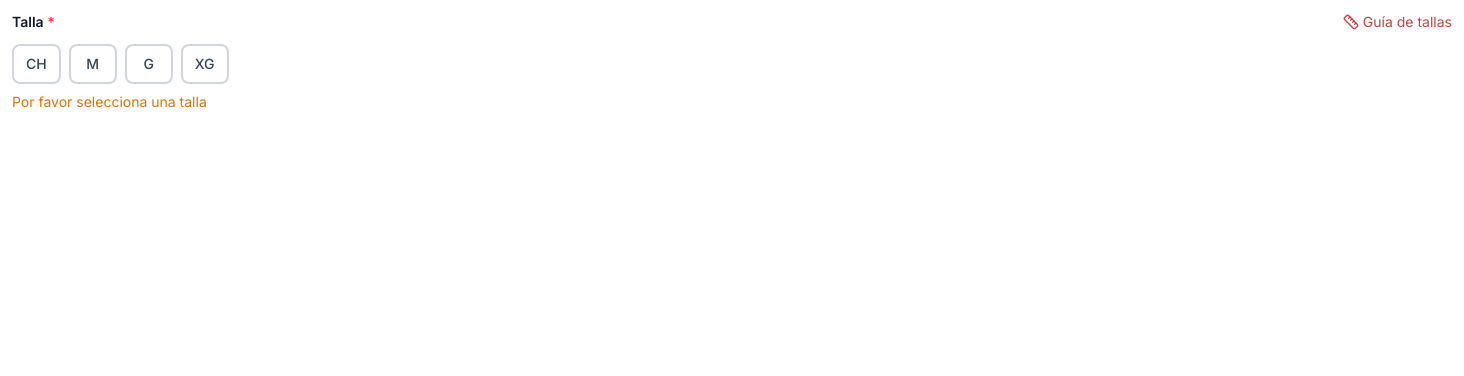
Scenario: SizeSelector Component › Size Guide › should show size guide when button is clicked
The image size is (1464, 376).
Click the button "Guía de tallas".
click(1397, 22)  # box [1343,12,1452,32]
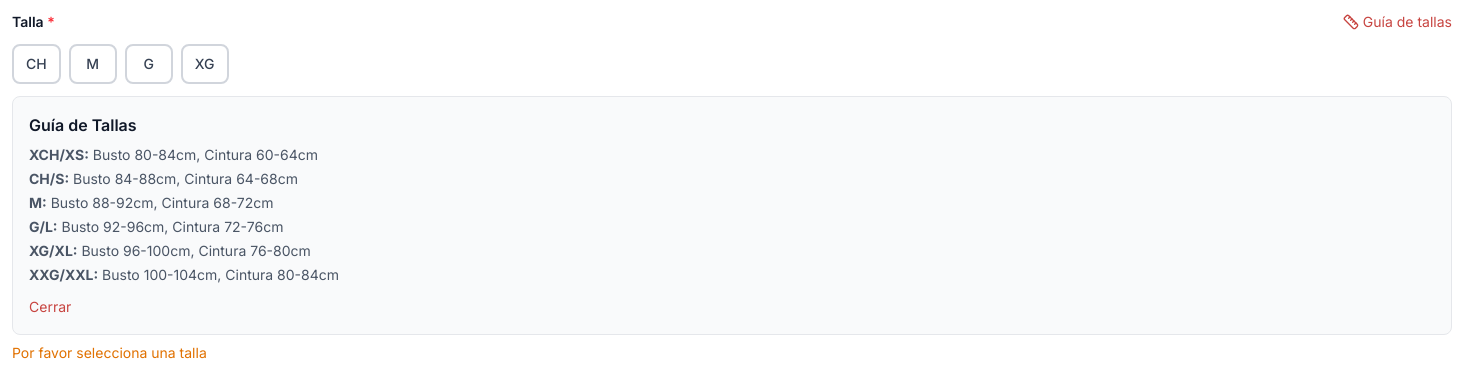
Now the heading "Guía de Tallas" is shown, box [29,115,137,135]
